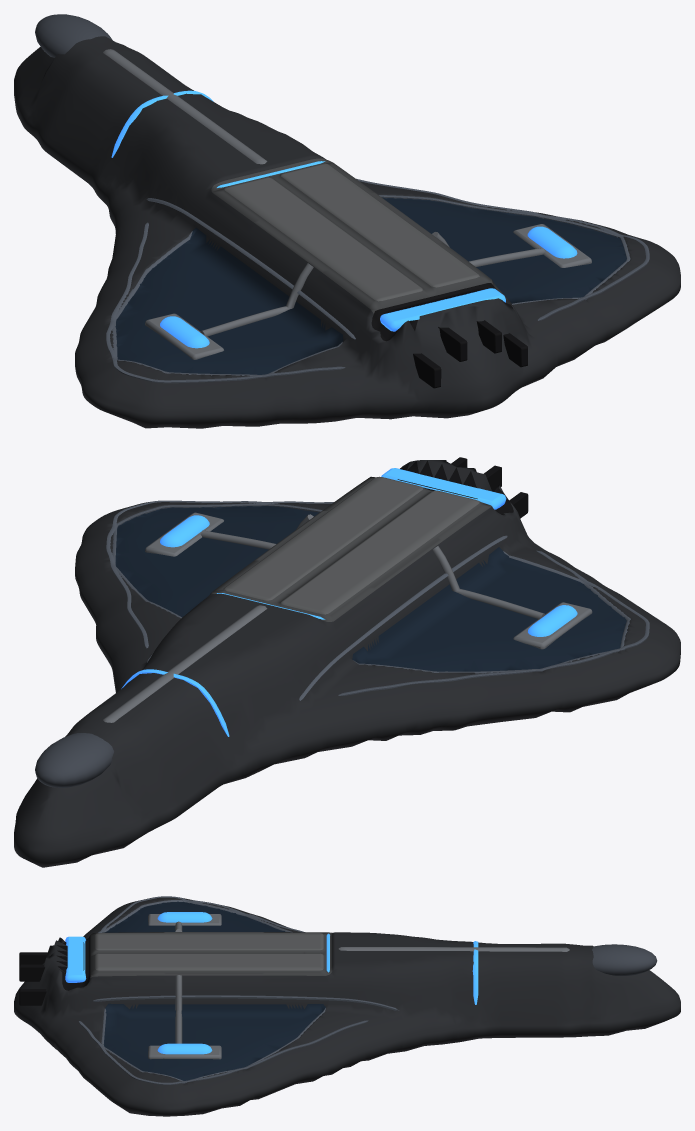
File: store_ship_44.glb
The picture shows the model from 3 angles, top to bottom: view 1: azimuth 30°, elevation 25°; view 2: azimuth 150°, elevation 25°; view 3: azimuth 270°, elevation 25°; orthographic projection. The views are drawn at different scales.
Parts seen in each view (by area): view 1: hull, dome, spine, seam_edge.001, exhaust, seam_edge, seam_panel.001, strut, seam_root, seam_panel, lamp_frame, lamp.001 (+5 smaller); view 2: hull, dome, spine, seam_edge.001, exhaust, seam_edge, seam_root, strut, seam_panel.001, seam_panel, lamp_frame, lamp.001 (+4 smaller); view 3: hull, dome, seam_root.001, spine, seam_edge, exhaust, lamp.001, lamp_frame.001, lamp, strut.001, seam_panel, seam_panel.001 (+6 smaller).
Part boxes in pixels (left/top/right/bottom): hull: left=14, top=36, right=680, bottom=428; dome: left=35, top=14, right=112, bottom=57; spine: left=103, top=49, right=267, bottom=164; seam_edge.001: left=106, top=222, right=345, bottom=383; exhaust: left=380, top=288, right=505, bottom=331; seam_edge: left=356, top=178, right=649, bottom=320; seam_panel.001: left=379, top=195, right=630, bottom=304; strut: left=200, top=263, right=313, bottom=336; seam_root: left=146, top=198, right=355, bottom=339; seam_panel: left=112, top=231, right=342, bottom=376; lamp_frame: left=145, top=313, right=223, bottom=359; lamp.001: left=527, top=226, right=577, bottom=258; hull: left=14, top=460, right=680, bottom=867; dome: left=35, top=733, right=113, bottom=787; spine: left=103, top=605, right=267, bottom=722; seam_edge.001: left=338, top=550, right=649, bottom=695; exhaust: left=381, top=468, right=506, bottom=509; seam_edge: left=106, top=500, right=333, bottom=648; seam_root: left=299, top=535, right=507, bottom=700; strut: left=432, top=546, right=544, bottom=619; seam_panel.001: left=112, top=503, right=322, bottom=618; seam_panel: left=353, top=551, right=630, bottom=673; lamp_frame: left=513, top=602, right=592, bottom=649; lamp.001: left=160, top=515, right=209, bottom=547; hull: left=14, top=897, right=680, bottom=1116; dome: left=592, top=944, right=657, bottom=975; seam_root.001: left=93, top=995, right=398, bottom=1010; spine: left=338, top=947, right=569, bottom=951; seam_edge: left=79, top=1020, right=368, bottom=1084; exhaust: left=65, top=936, right=86, bottom=982; lamp.001: left=157, top=1043, right=212, bottom=1054; lamp_frame.001: left=148, top=1045, right=221, bottom=1059; lamp: left=157, top=912, right=212, bottom=922; strut.001: left=175, top=975, right=182, bottom=1043; seam_panel: left=102, top=900, right=292, bottom=932; seam_panel.001: left=101, top=1008, right=325, bottom=1081.
Bounding box in the file's own units: 79.95 × 13.74 × 109.
